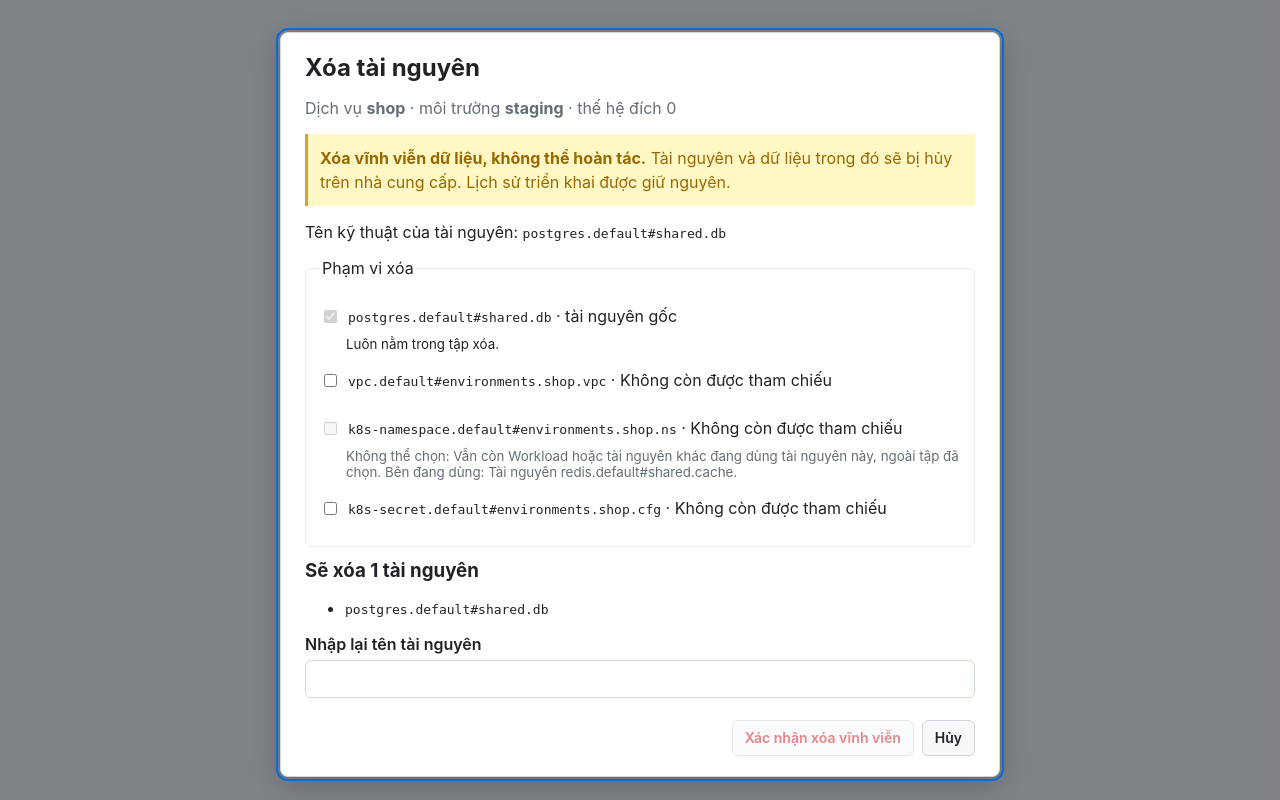
Test case: deletion dialog (UC-07 DEL-MS-02..04) › clears the typed name whenever the scope changes, so a confirmation never covers a different set
Expected: the text with test id "root-name" is shown, [523,226,726,241]
In the field labelled "Nhập lại tên tài nguyên": [640, 679] box [305,660,975,698], type "postgres.default#shared.db"
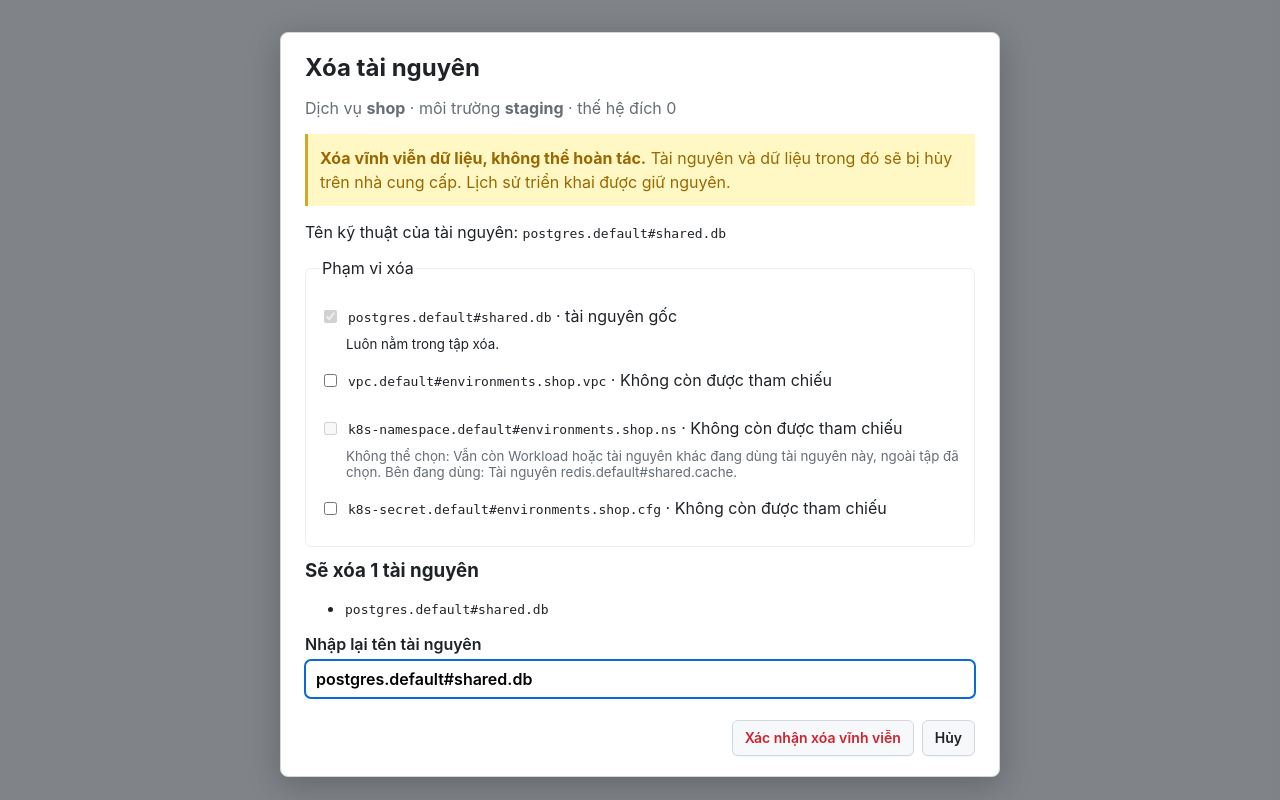
Now the button "Xác nhận xóa vĩnh viễn" is enabled, box [732,720,914,756]
Click the checkbox labelled "vpc.default": [330, 380] box [324,374,337,386]
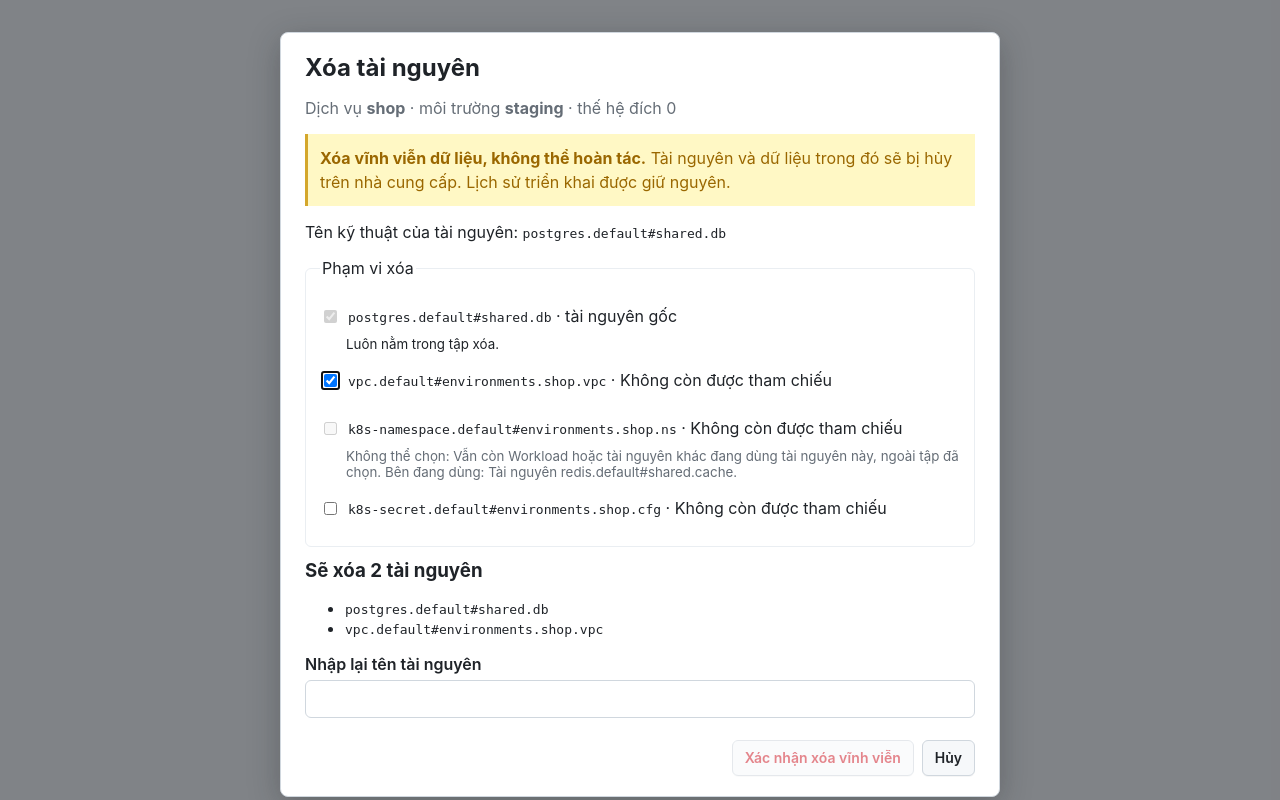
Now the field labelled "Nhập lại tên tài nguyên" is empty, box [305,680,975,718]
Now the button "Xác nhận xóa vĩnh viễn" is disabled, box [732,740,914,776]
